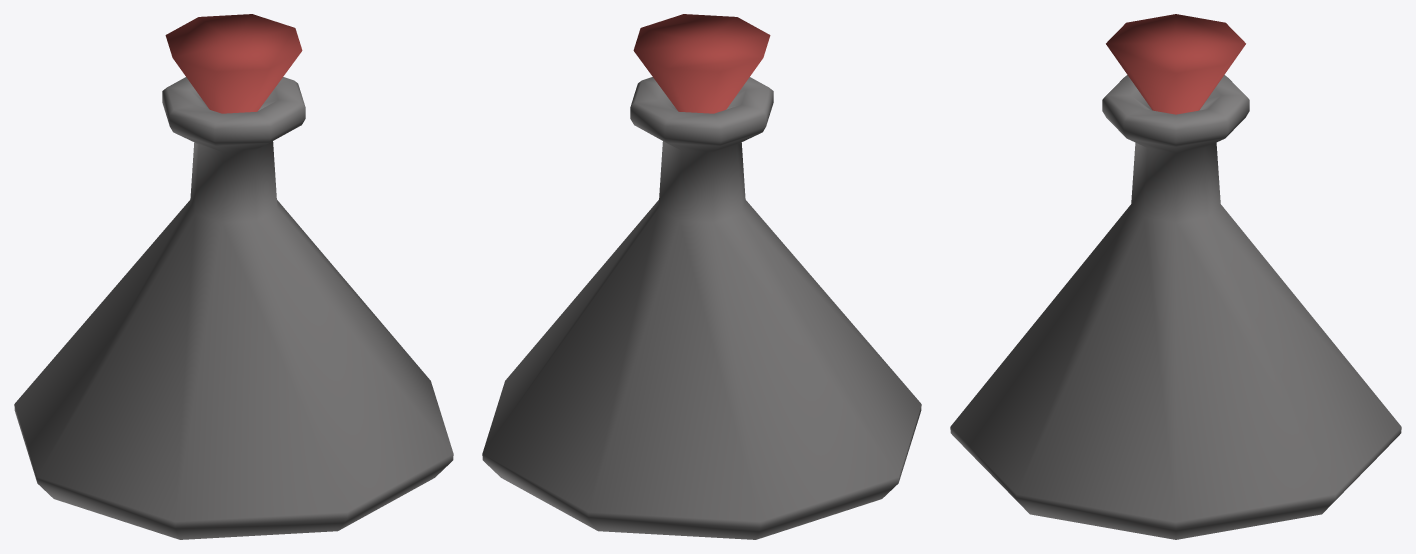
File: beaker_full.glb
3 views of the same model, side by side, from view 1: azimuth 30°, elevation 25°; view 2: azimuth 150°, elevation 25°; view 3: azimuth 270°, elevation 25° (orthographic).
Parts seen in each view (by area): view 1: beakerfull; view 2: beakerfull; view 3: beakerfull.
Part boxes in pixels (<box>): beakerfull: <box>14,14,453,539</box>; beakerfull: <box>482,14,921,539</box>; beakerfull: <box>950,14,1401,539</box>.
Bounding box in the file's own units: 0.2 × 0.2 × 0.2.
